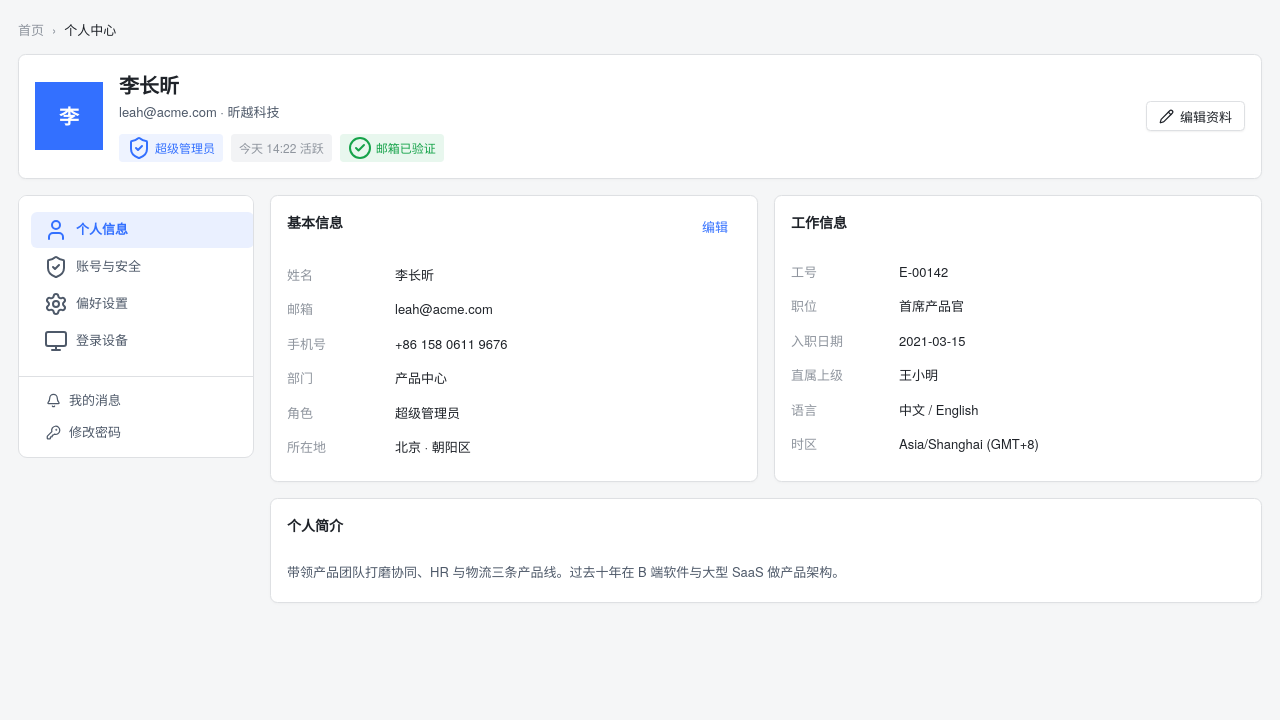
Test: 个人信息展示完整资料并支持编辑
Expected: the heading "李长昕" is shown, [119,70,179,99]
Expected: the text "E-00142" is shown, [899,263,948,281]
Click the button "编辑资料": (1196, 116) [1146,101,1245,131]
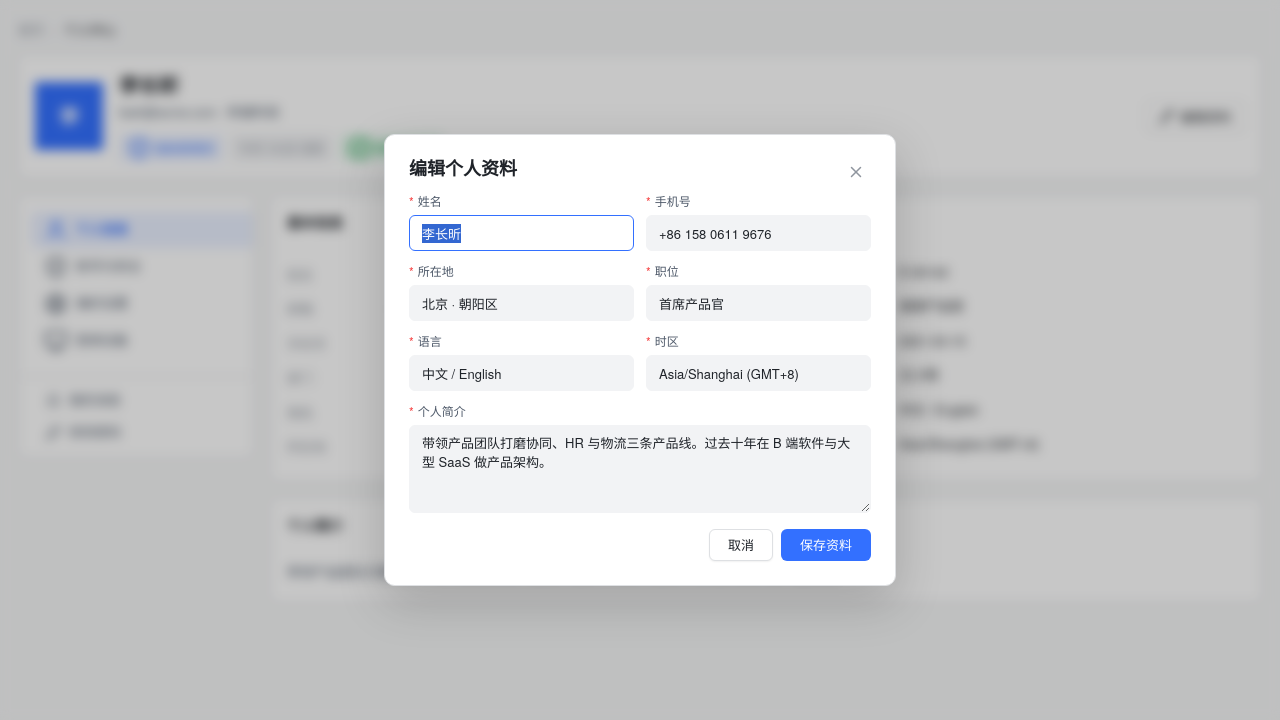
Replace the text in the field labelled "职位" with "产品负责人": (758, 303) [646,285,871,321]
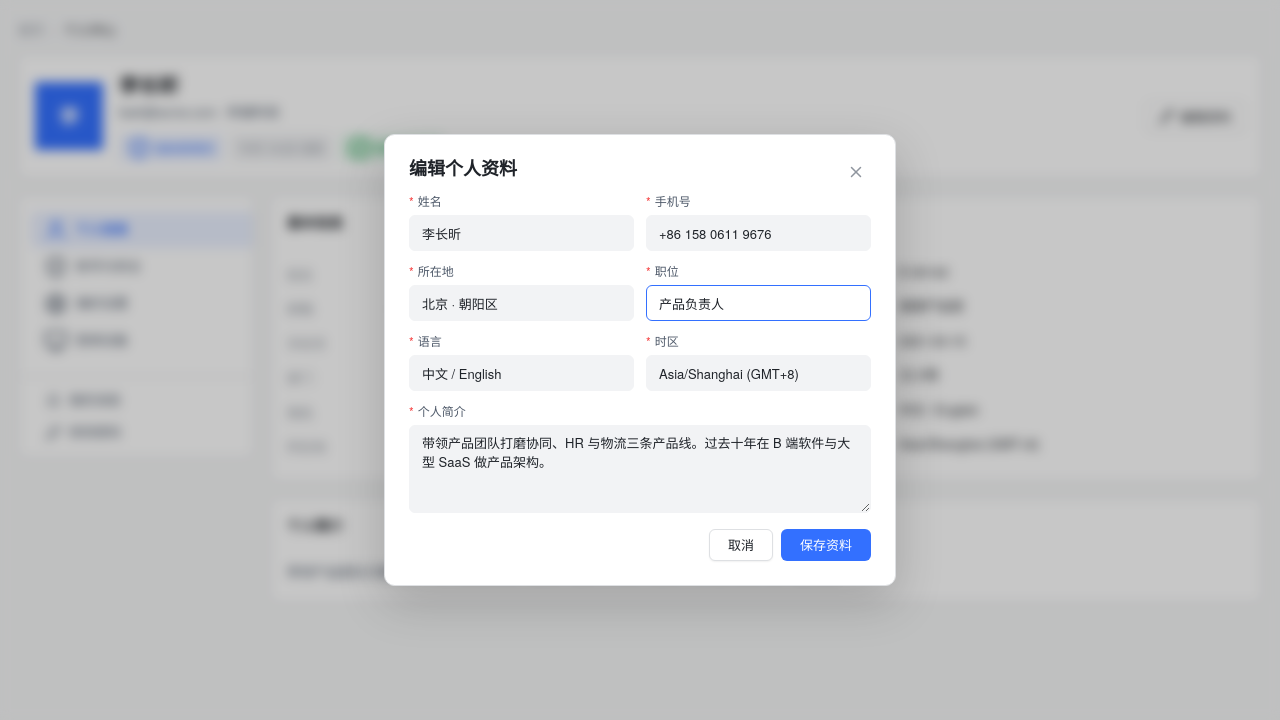
Click the button "保存资料": (826, 545) [781,529,871,561]
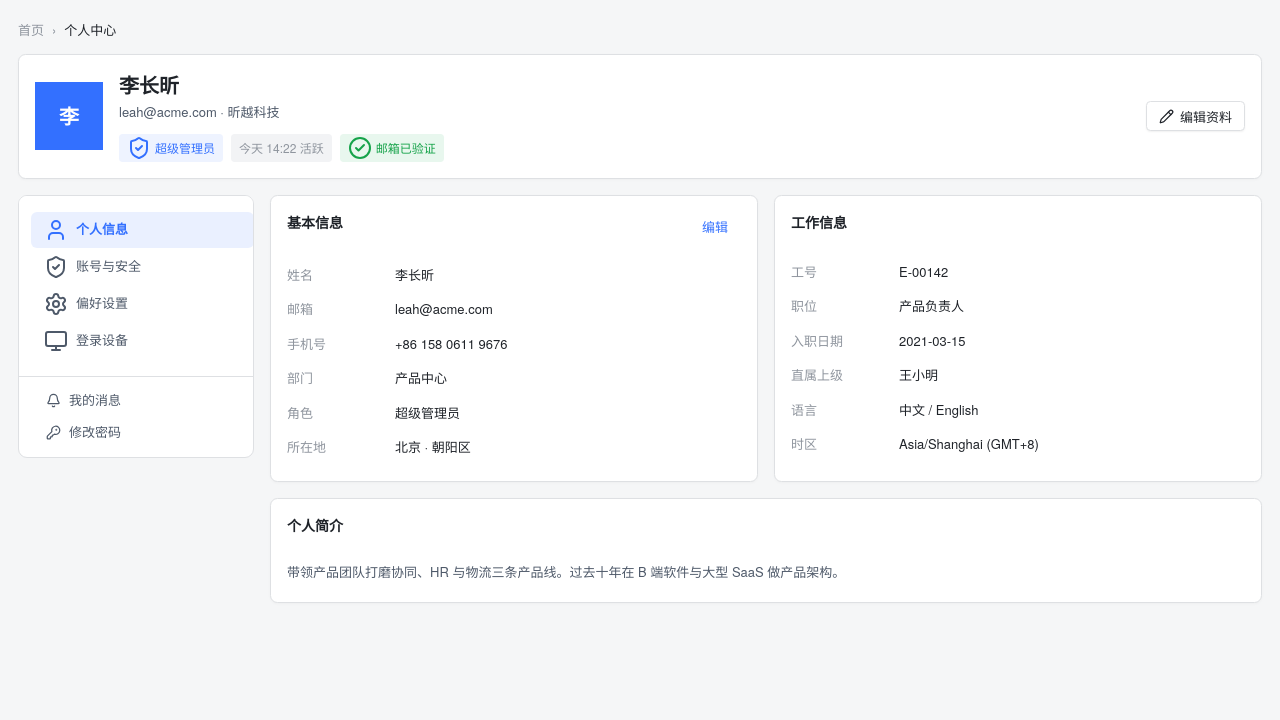
Now the text "产品负责人" is shown, box [899,297,964,316]
